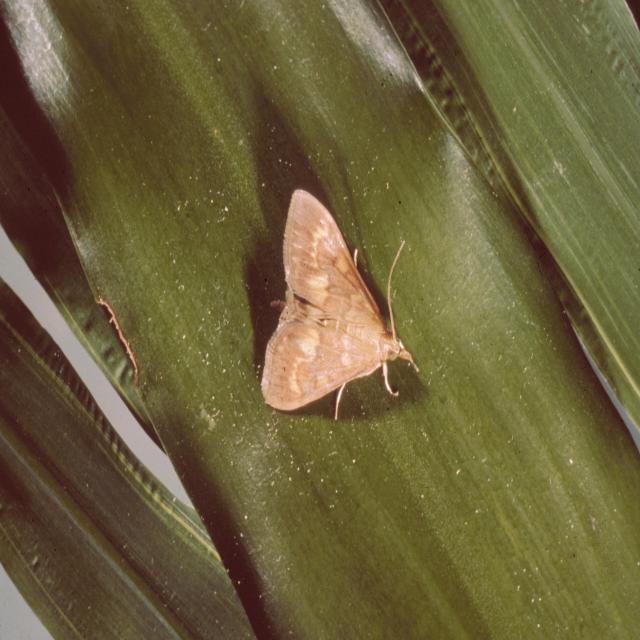cornborer-Adult-: (243, 169, 430, 437)
